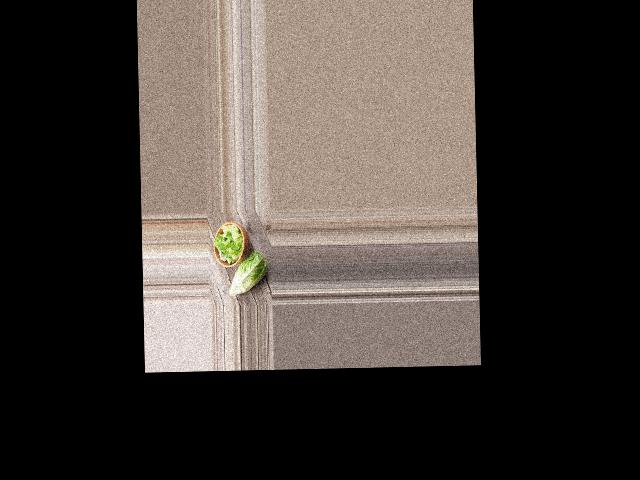lettuce: (228, 252, 268, 295)
